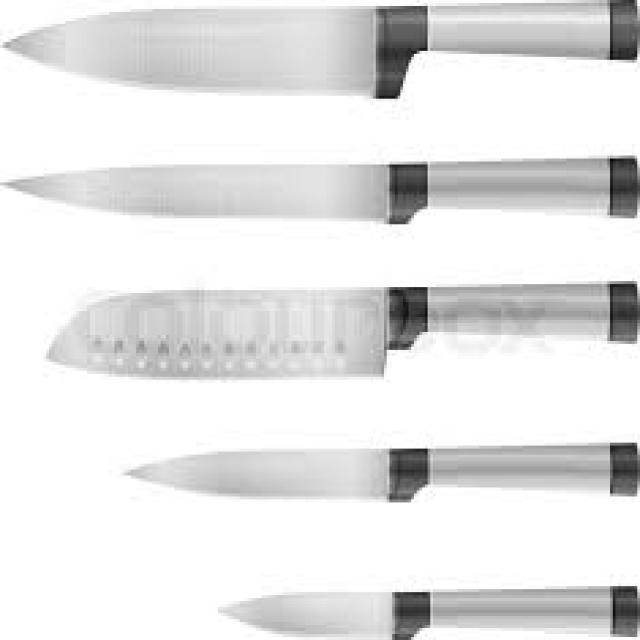Knife: (0, 0, 637, 98), (44, 278, 637, 380), (0, 152, 637, 221), (123, 440, 637, 502), (215, 583, 637, 637)
